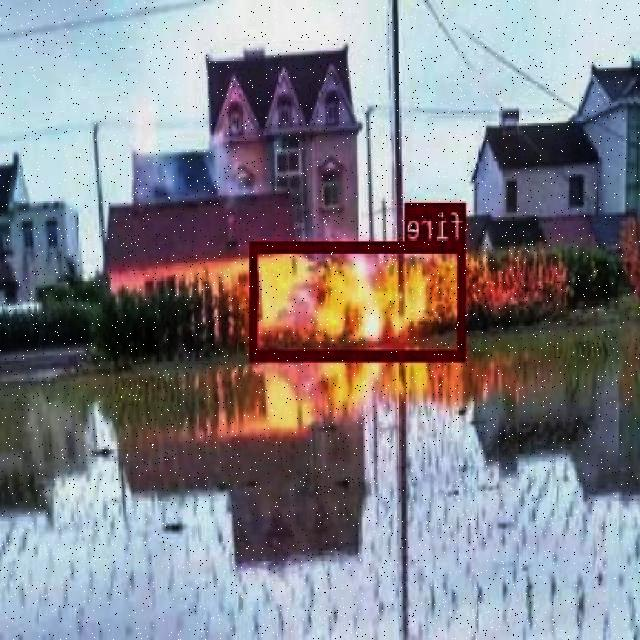fire: (250, 239, 468, 358)
